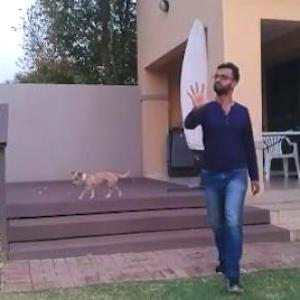follow_hand: (182, 75, 215, 114)
